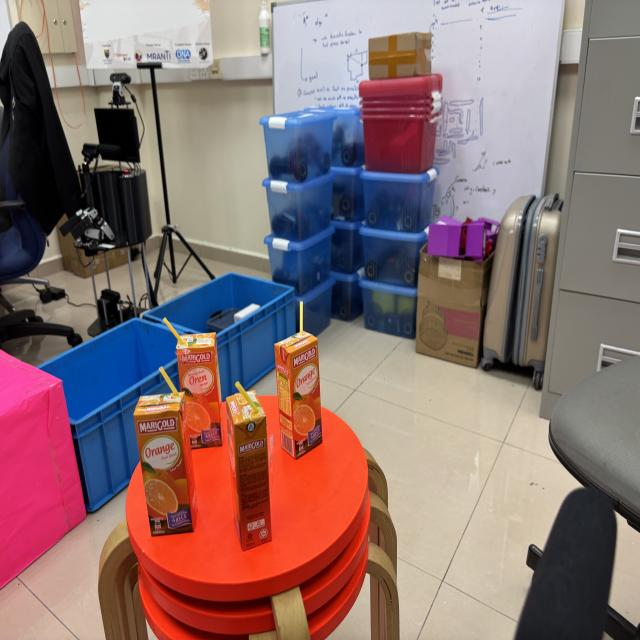drink_carton: (125, 374, 208, 554), (161, 305, 231, 465), (220, 375, 279, 556), (269, 293, 328, 465)
